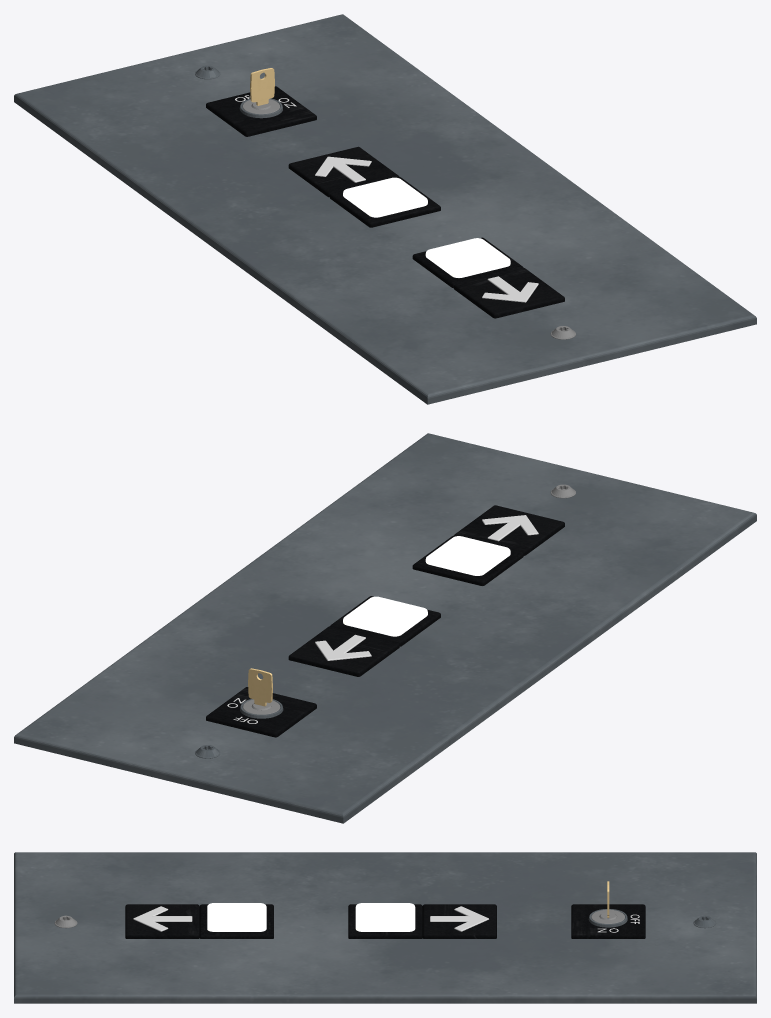
3 views of the same model, one above another, from view 1: azimuth 30°, elevation 25°; view 2: azimuth 150°, elevation 25°; view 3: azimuth 270°, elevation 25° (orthographic). The views are drawn at different scales.
Visible parts, largest first — view 1: Elevaotor Buttons; view 2: Elevaotor Buttons; view 3: Elevaotor Buttons.
Part boxes in pixels (x1=…): Elevaotor Buttons: x1=14, y1=14, x2=756, y2=404; Elevaotor Buttons: x1=14, y1=433, x2=756, y2=823; Elevaotor Buttons: x1=14, y1=852, x2=756, y2=1003.
Bounding box in the file's own units: 0.46 × 0.0696 × 1.
Materials: 8 (4 with a texture image).
